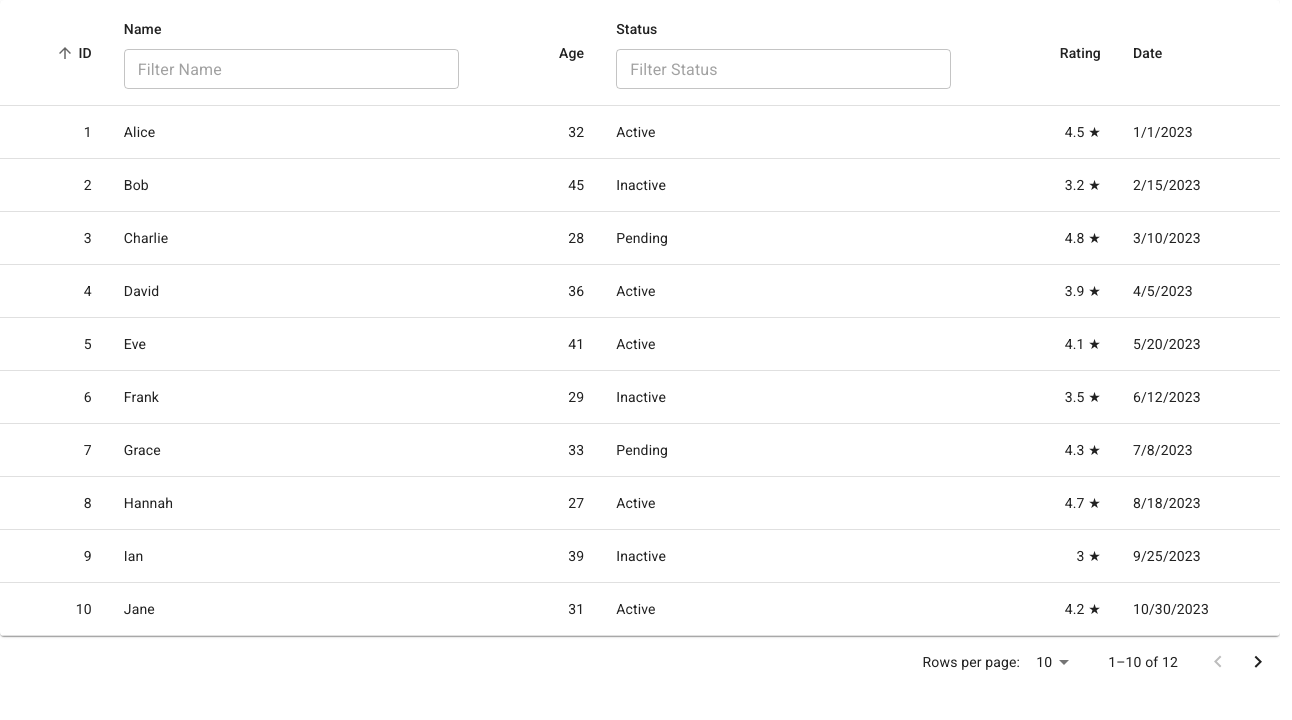
DataTable › Desktop View › filters the data correctly
// Find the name filter input and type 'Alice'
Type "Alice" into the field with placeholder "Filter Name".
click(291, 69); type("Alice")  # box x1=124 y1=49 x2=459 y2=89
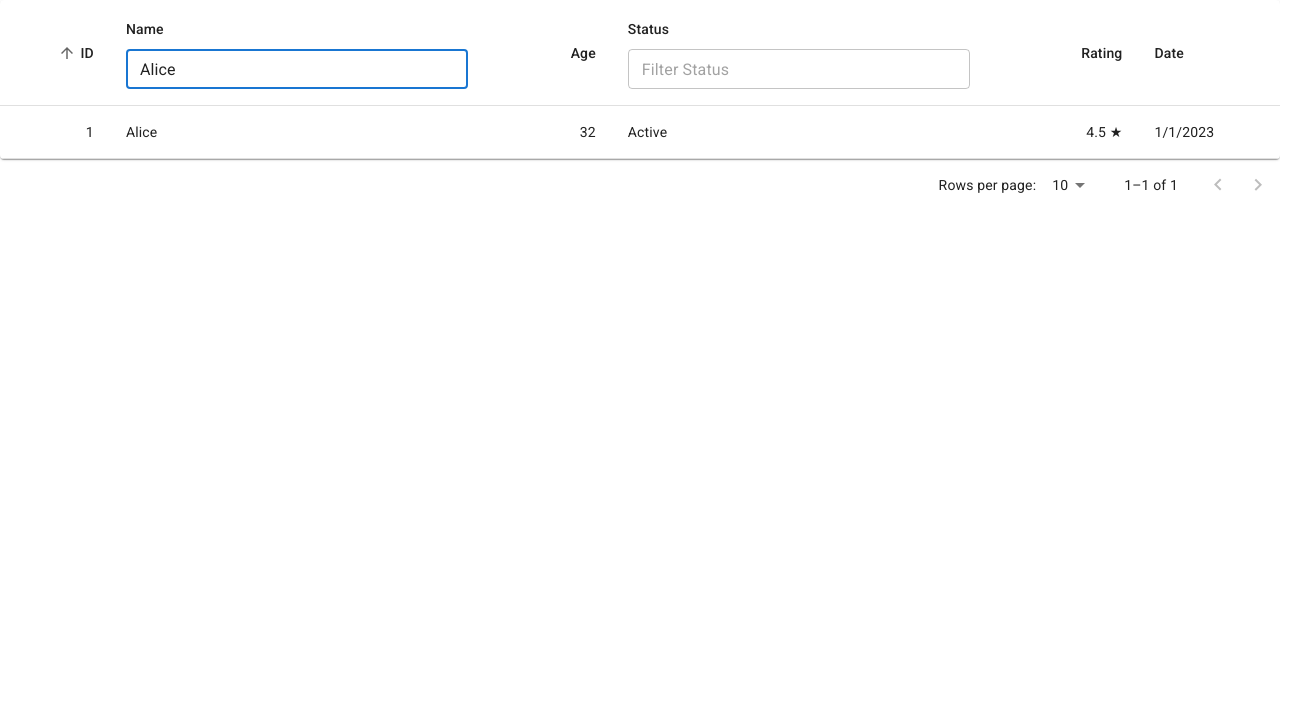
Check: the text "Alice" is shown, box x1=110 y1=106 x2=484 y2=159
Check: the number of rows is 2, box x1=0 y1=0 x2=1280 y2=106; x1=0 y1=106 x2=1280 y2=159
